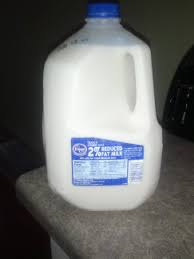milk: (44, 5, 163, 211)
